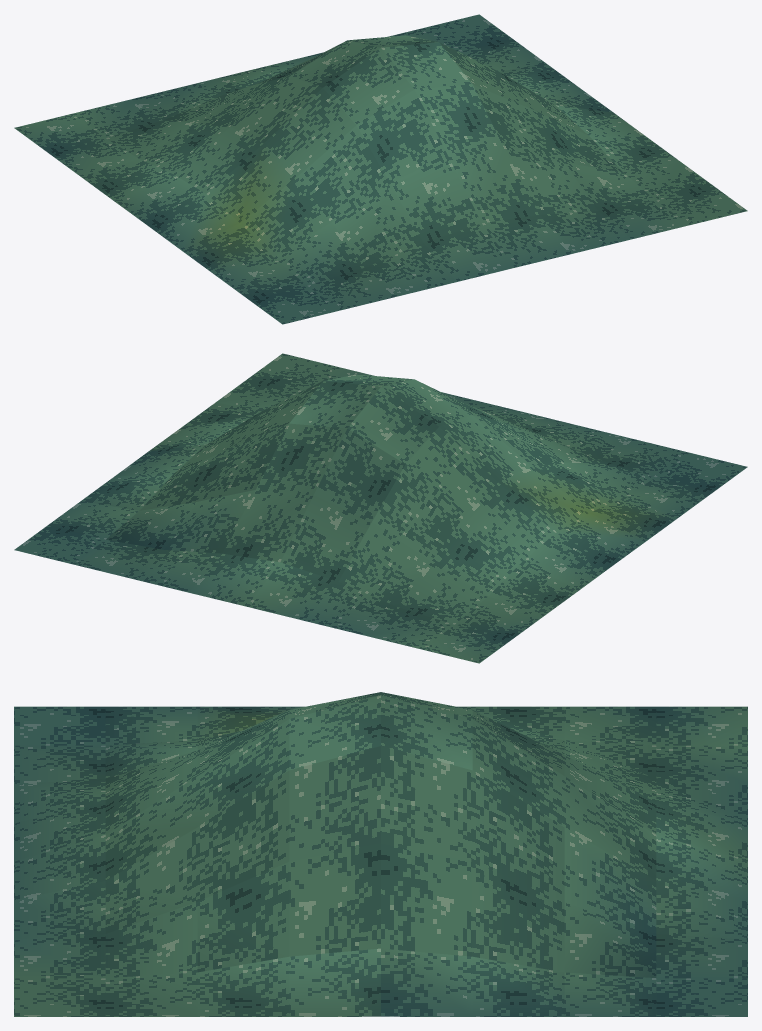
File: mter.hill.glb
The picture shows the model from 3 angles, top to bottom: view 1: azimuth 30°, elevation 25°; view 2: azimuth 150°, elevation 25°; view 3: azimuth 270°, elevation 25°; orthographic projection. The views are drawn at different scales.
Visible parts, largest first — view 1: kit_shell_hill; view 2: kit_shell_hill; view 3: kit_shell_hill.
Boxes of the visible parts, <box> form: kit_shell_hill: <box>14,14,747,324</box>; kit_shell_hill: <box>14,353,747,663</box>; kit_shell_hill: <box>14,692,747,1016</box>.
Bounding box in the file's own units: 16 × 4 × 16.
1 material, 1 textured.
